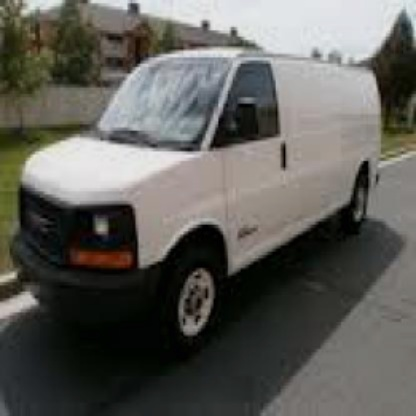Vehicle: (12, 54, 384, 342)
